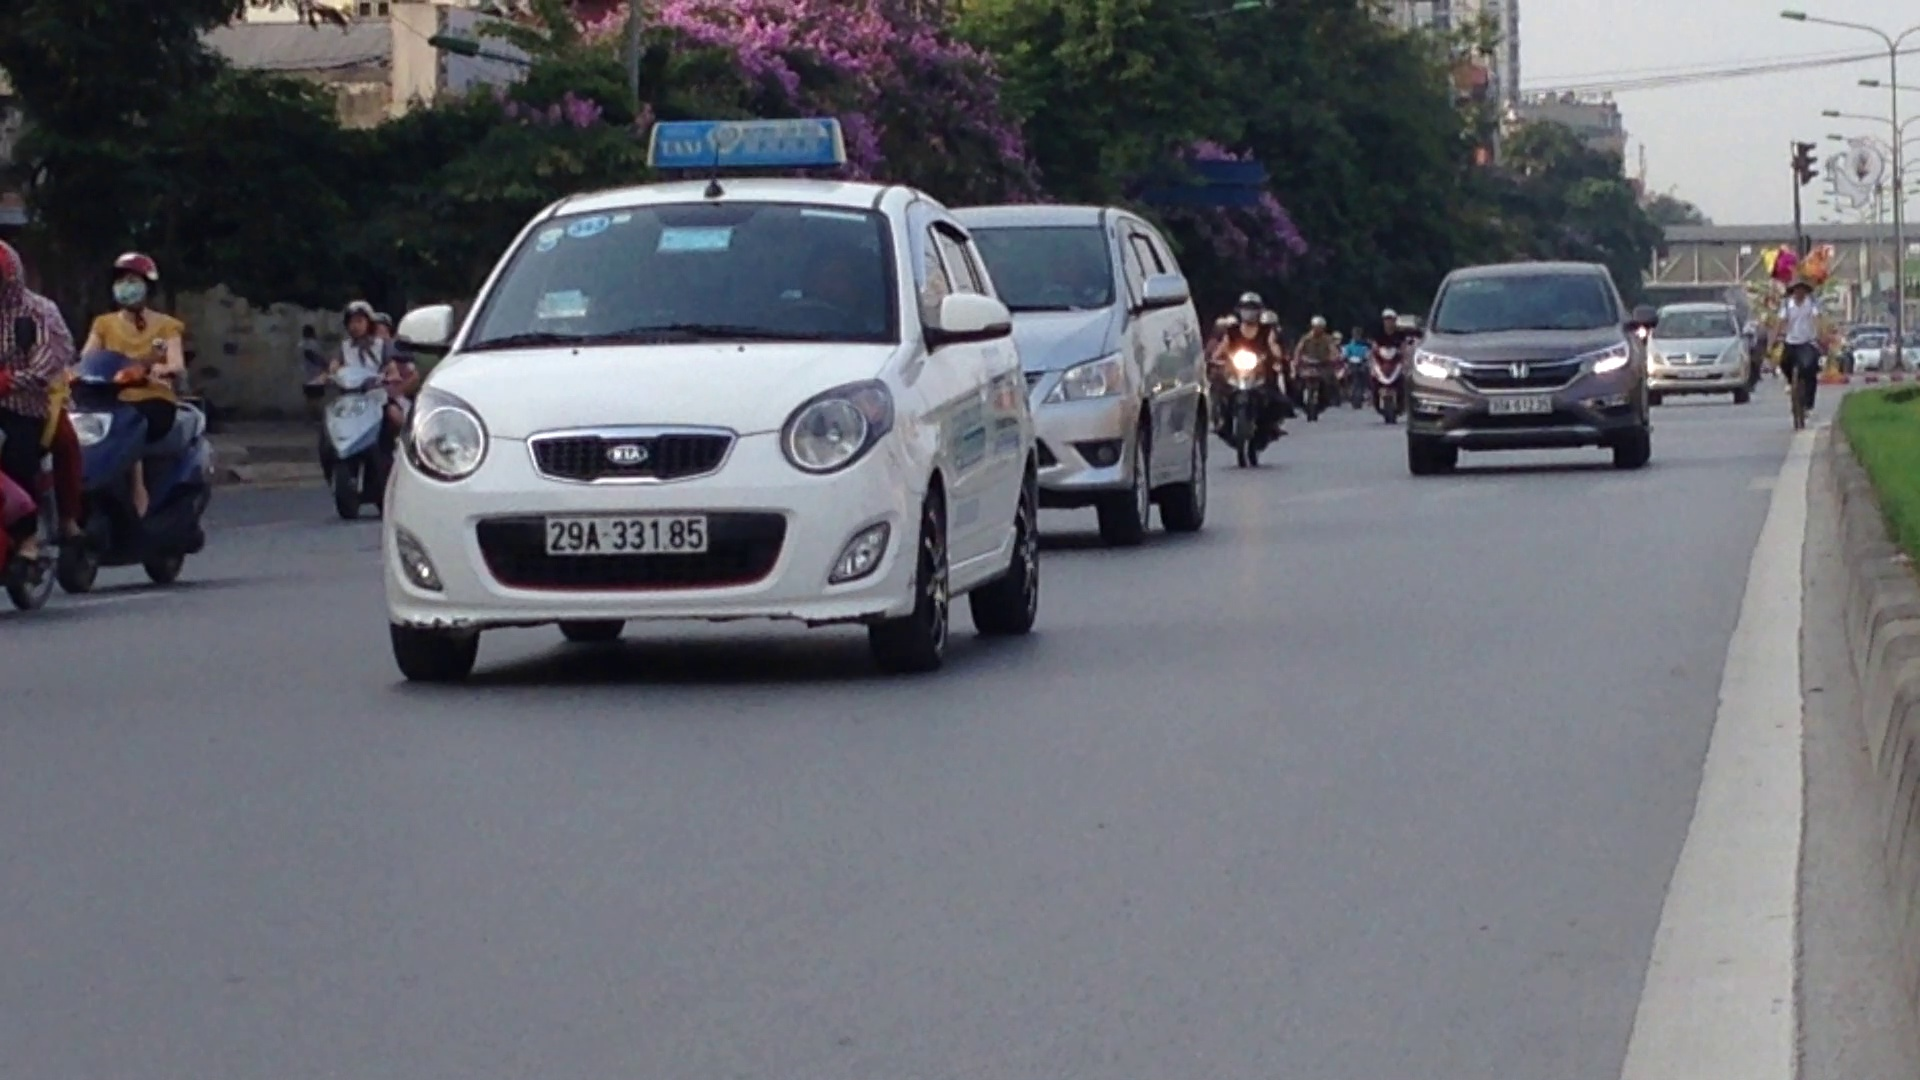vehicle-plate: (541, 510, 711, 556), (1486, 389, 1556, 416)
